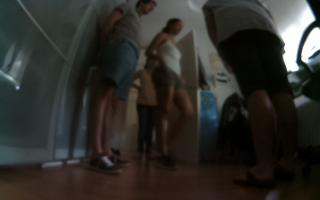person: (200, 1, 305, 189), (85, 1, 160, 177), (146, 17, 191, 171), (134, 57, 161, 166)
